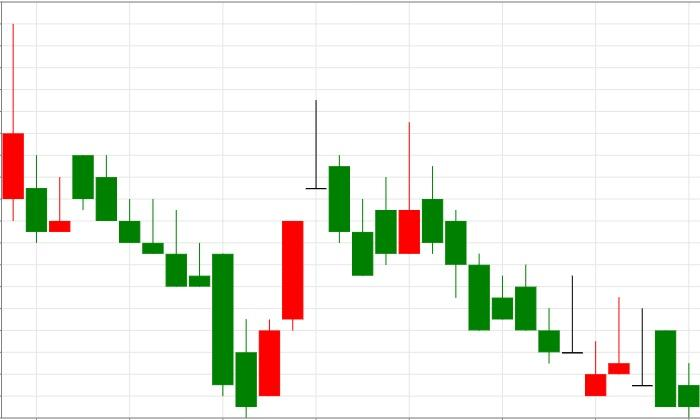inverse_hammer_rise: (422, 165, 606, 396)
